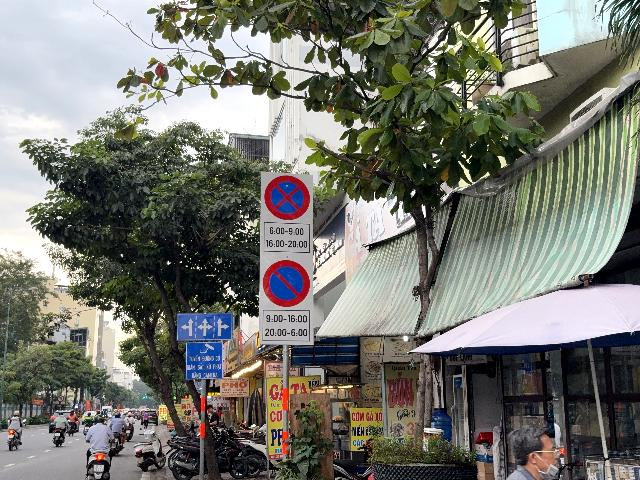cam-do-xe: (263, 260, 310, 307)
cam-dung-va-do-xe: (263, 176, 311, 220)
